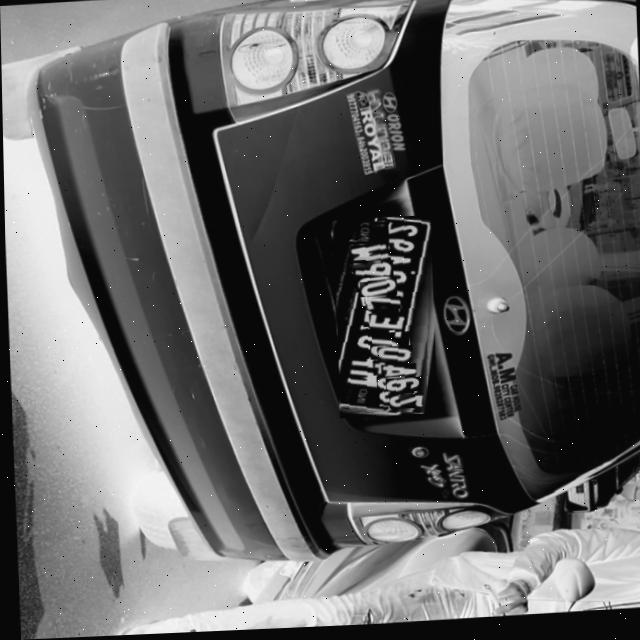0: (357, 281, 394, 300), (374, 348, 410, 367)
2: (386, 396, 420, 413)
4: (378, 366, 413, 383)
7: (361, 299, 398, 314)
9: (382, 380, 417, 396)
A: (369, 335, 407, 351)
E: (366, 315, 402, 335)
IND: (356, 227, 387, 248)
Indian_registered: (336, 221, 427, 417)
M: (348, 247, 386, 268)
P: (350, 263, 390, 281)
